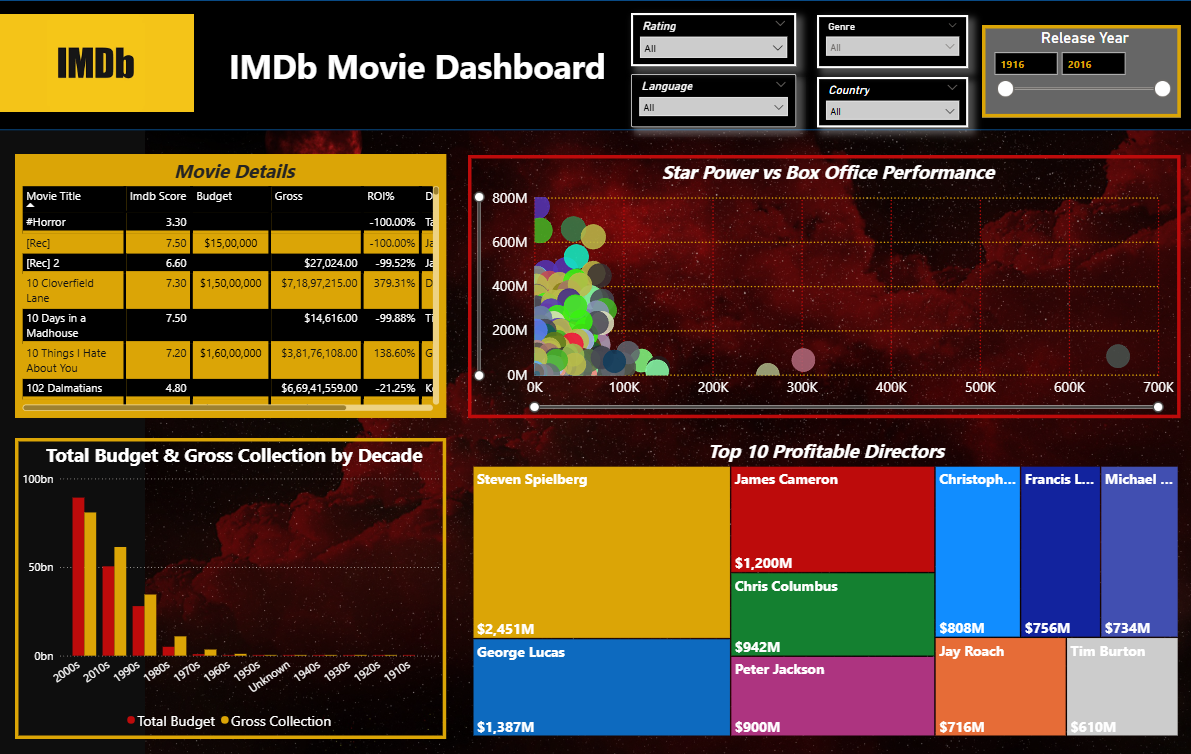

The dashboard page shown, as its layout file describes it:
{"tool":"powerbi","page":{"name":"Final 2","canvas":[1920,1080],"ordinal":1},"visuals":[{"type":"shape","box":[0,0,1706,186],"z":0},{"type":"image","box":[0,0,280,180],"z":1000},{"type":"textbox","box":[242,22,662,142],"z":2000},{"type":"slicer","fields":{"Values":["movie_metadata.genres"]},"box":[1170,22,216,76],"z":3000},{"type":"slicer","title":"Release Year","fields":{"Values":["movie_metadata.title_year"]},"box":[1406,36,284,132],"z":4000},{"type":"slicer","fields":{"Values":["movie_metadata.country"]},"box":[1170,110,216,72],"z":5000},{"type":"slicer","fields":{"Values":["movie_metadata.language"]},"box":[904,106,236,76],"z":6000},{"type":"slicer","fields":{"Values":["movie_metadata.content_rating"]},"box":[904,18,236,76],"z":7000},{"type":"cardVisual","fields":{"Data":["Key Measures.ROI%"]},"box":[54,454,206,114],"z":8000},{"type":"clusteredColumnChart","title":"Total Budget & Gross Collection by Decade","fields":{"Y":["Key Measures.total_budget","Key Measures.total_gross"],"Category":["movie_metadata.Decade"]},"box":[24,626,616,430],"z":9000},{"type":"tableEx","title":"Movie Details","fields":{"Values":["movie_metadata.movie_title","movie_metadata.imdb_score","movie_metadata.budget","movie_metadata.gross","Key Measures.ROI%","movie_metadata.Director_Name"]},"box":[24.3,220,615.7,377.1],"z":10000},{"type":"scatterChart","title":"Star Power vs Box Office Performance","fields":{"X":["movie_metadata.total_actor_fblikes"],"Y":["Key Measures.total_gross"],"Size":["Key Measures.profit"],"Category":["movie_metadata.movie_title"],"Series":["movie_metadata.genres"]},"box":[672,222,1018,376],"z":11000},{"type":"treemap","title":"Top 10 Profitable Directors","fields":{"Group":["movie_metadata.Director_Name"],"Values":["Key Measures.profit"]},"box":[674,626,1016,430],"z":12000}]}

Visuals, with their boxes on the page's 1920x1080 design canvas (x1, y1, x2, y2). These are canvas units, not pixel positions in the 1191x754 screenshot, which may show the page scaled, cropped or inside an application window:
shape: BBox(0, 0, 1706, 186)
image: BBox(0, 0, 280, 180)
textbox: BBox(242, 22, 904, 164)
slicer - movie_metadata.genres: BBox(1170, 22, 1386, 98)
"Release Year" slicer: BBox(1406, 36, 1690, 168)
slicer - movie_metadata.country: BBox(1170, 110, 1386, 182)
slicer - movie_metadata.language: BBox(904, 106, 1140, 182)
slicer - movie_metadata.content_rating: BBox(904, 18, 1140, 94)
cardVisual - Key Measures.ROI%: BBox(54, 454, 260, 568)
"Total Budget & Gross Collection by Decade" clusteredColumnChart: BBox(24, 626, 640, 1056)
"Movie Details" tableEx: BBox(24, 220, 640, 597)
"Star Power vs Box Office Performance" scatterChart: BBox(672, 222, 1690, 598)
"Top 10 Profitable Directors" treemap: BBox(674, 626, 1690, 1056)
